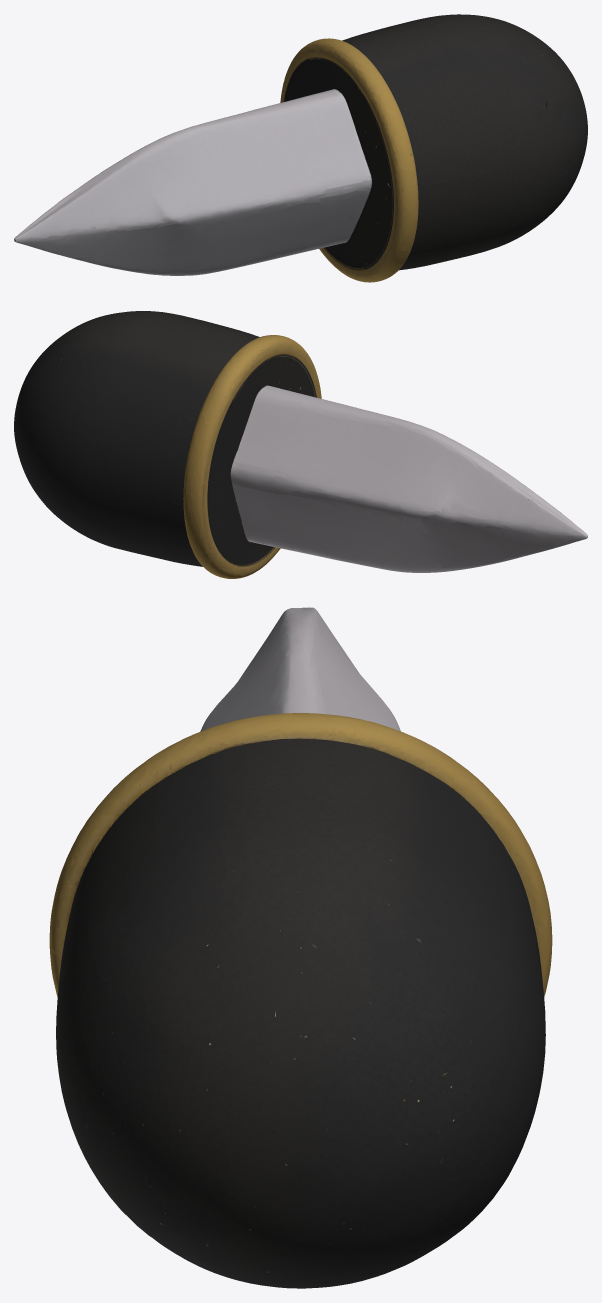
File: punal_pablo3.glb
3 renders of one model, top to bottom at view 1: azimuth 30°, elevation 25°; view 2: azimuth 150°, elevation 25°; view 3: azimuth 270°, elevation 25°, orthographic. The views are drawn at different scales.
Parts seen in each view (by area): view 1: mesh_node; view 2: mesh_node; view 3: mesh_node.
Part boxes in pixels (x1,y1,x2,y2): mesh_node: (14, 14, 587, 282); mesh_node: (14, 311, 587, 578); mesh_node: (49, 607, 552, 1288).
Size of the model in its own units: 1.9 by 0.734 by 0.7434.
1 material, 1 textured.
